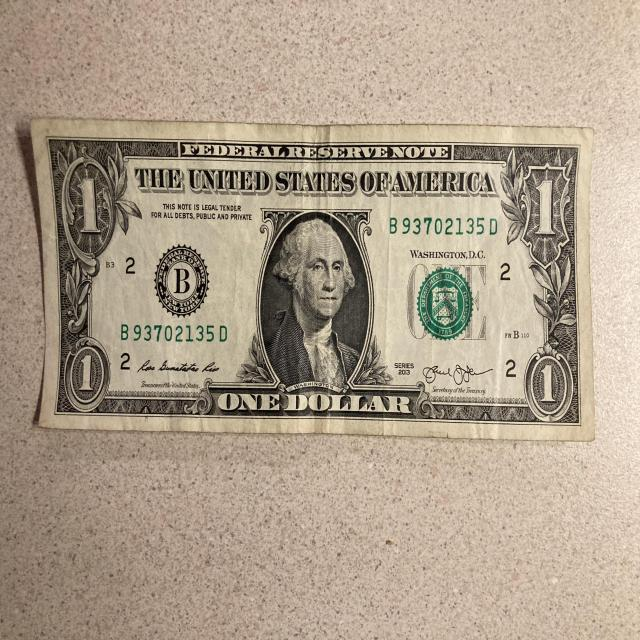one: (29, 121, 596, 446)
